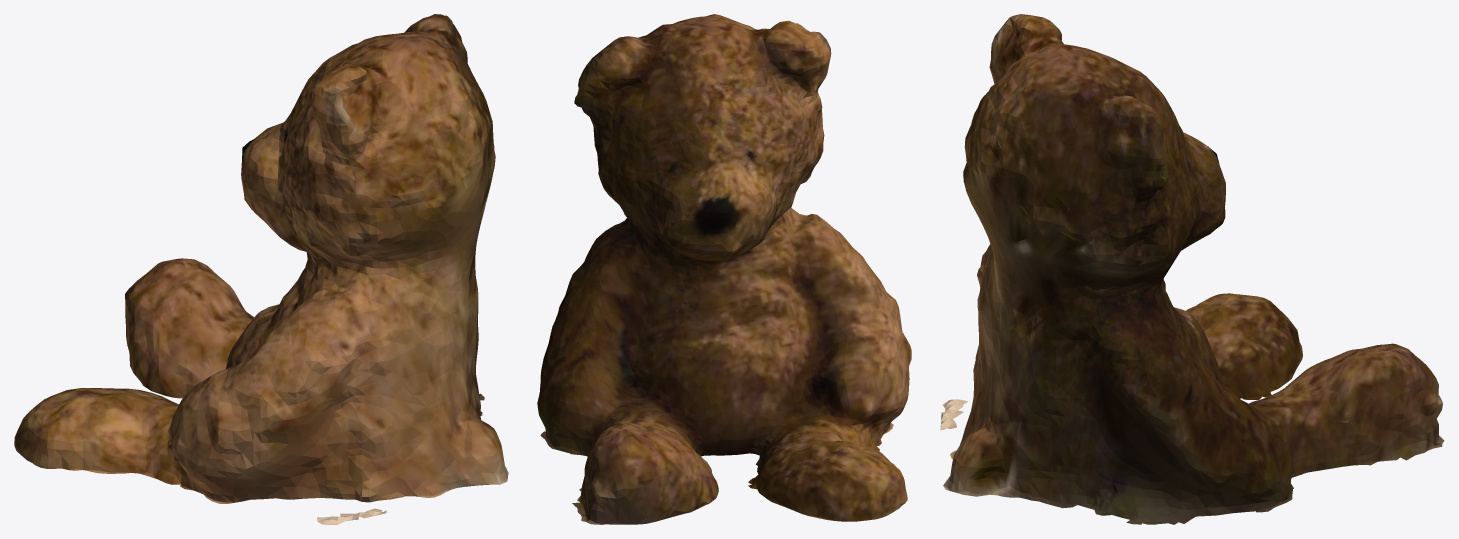
File: truebumbly.gltf
3 renders of one model, left to right at view 1: azimuth 30°, elevation 25°; view 2: azimuth 150°, elevation 25°; view 3: azimuth 270°, elevation 25°, orthographic. The views are drawn at different scales.
Parts seen in each view (by area): view 1: Mesh_0; view 2: Mesh_0; view 3: Mesh_0.
Boxes of the visible parts, x1,y1,x2,y2 form: Mesh_0: [14, 14, 508, 524]; Mesh_0: [537, 14, 911, 524]; Mesh_0: [940, 14, 1444, 524].
Size of the model in its own units: 0.275 by 0.2634 by 0.2897.
Materials: 1 (1 with a texture image).
